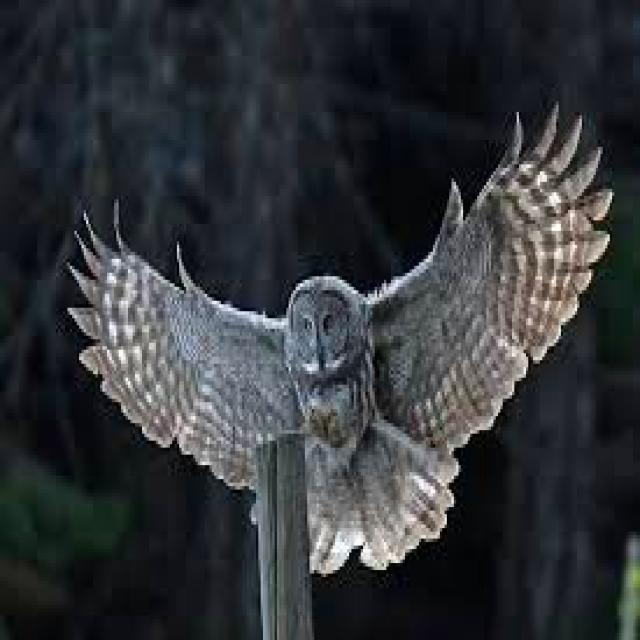owl: (67, 105, 612, 570)
